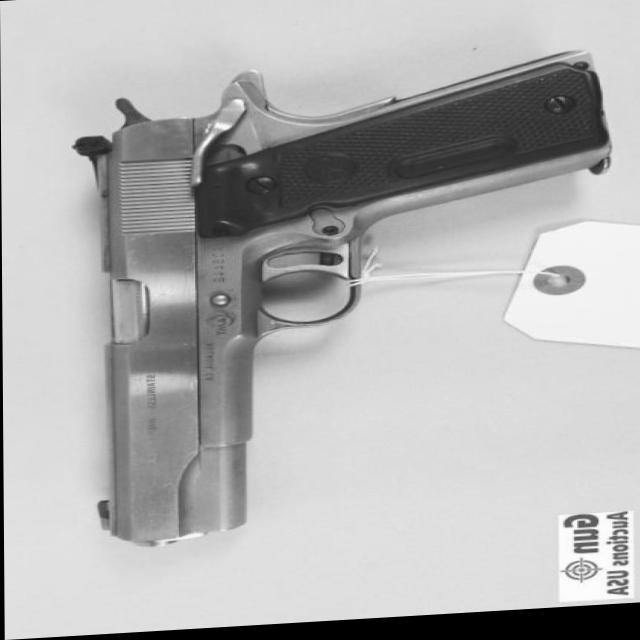handgun: (72, 52, 607, 553)
